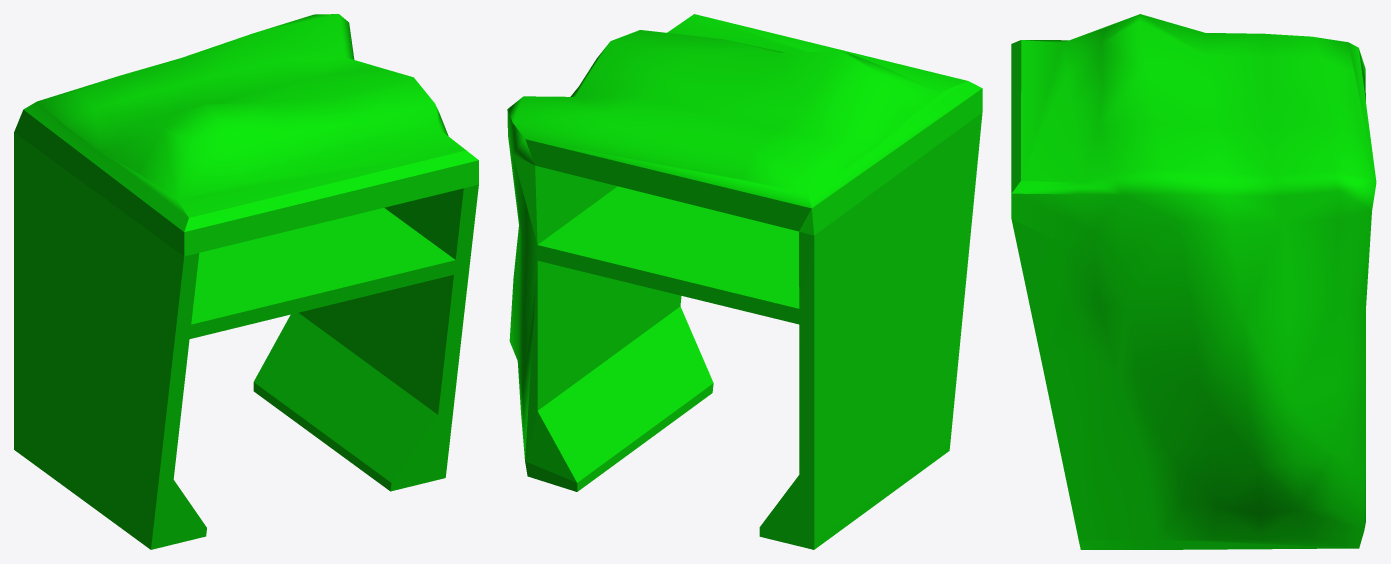
Rendered from AntagNightstandA.fbx.
3 renders of one model, left to right at view 1: azimuth 30°, elevation 25°; view 2: azimuth 150°, elevation 25°; view 3: azimuth 270°, elevation 25°, orthographic. The views are drawn at different scales.
Parts seen in each view (by area): view 1: AntagNightstandA; view 2: AntagNightstandA; view 3: AntagNightstandA.
Part boxes in pixels (x1,y1,x2,y2): AntagNightstandA: (14, 14, 478, 549); AntagNightstandA: (507, 14, 982, 549); AntagNightstandA: (1011, 14, 1376, 549).
Bounding box in the file's own units: 96.6 × 107 × 84.31.
